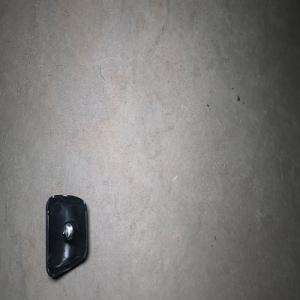LuggagePart: (44, 193, 88, 280)
